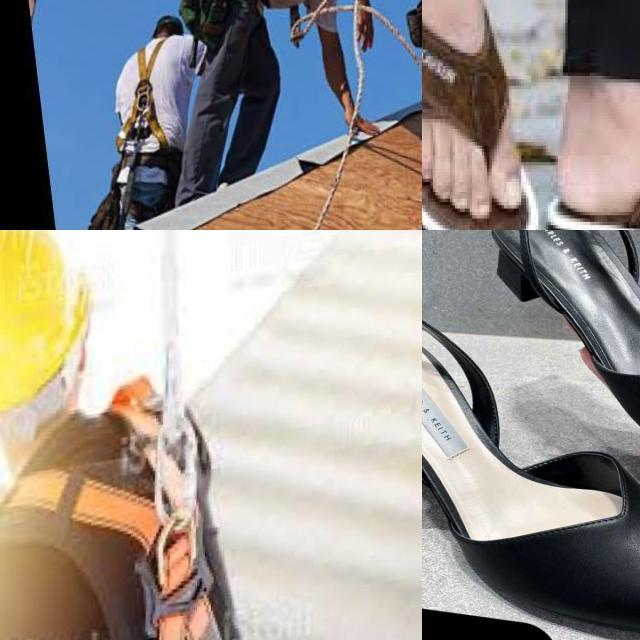Harness: (0, 372, 223, 640), (116, 39, 169, 154)
Sandals: (422, 255, 640, 640), (449, 230, 640, 520), (422, 0, 541, 230), (547, 66, 640, 230)
